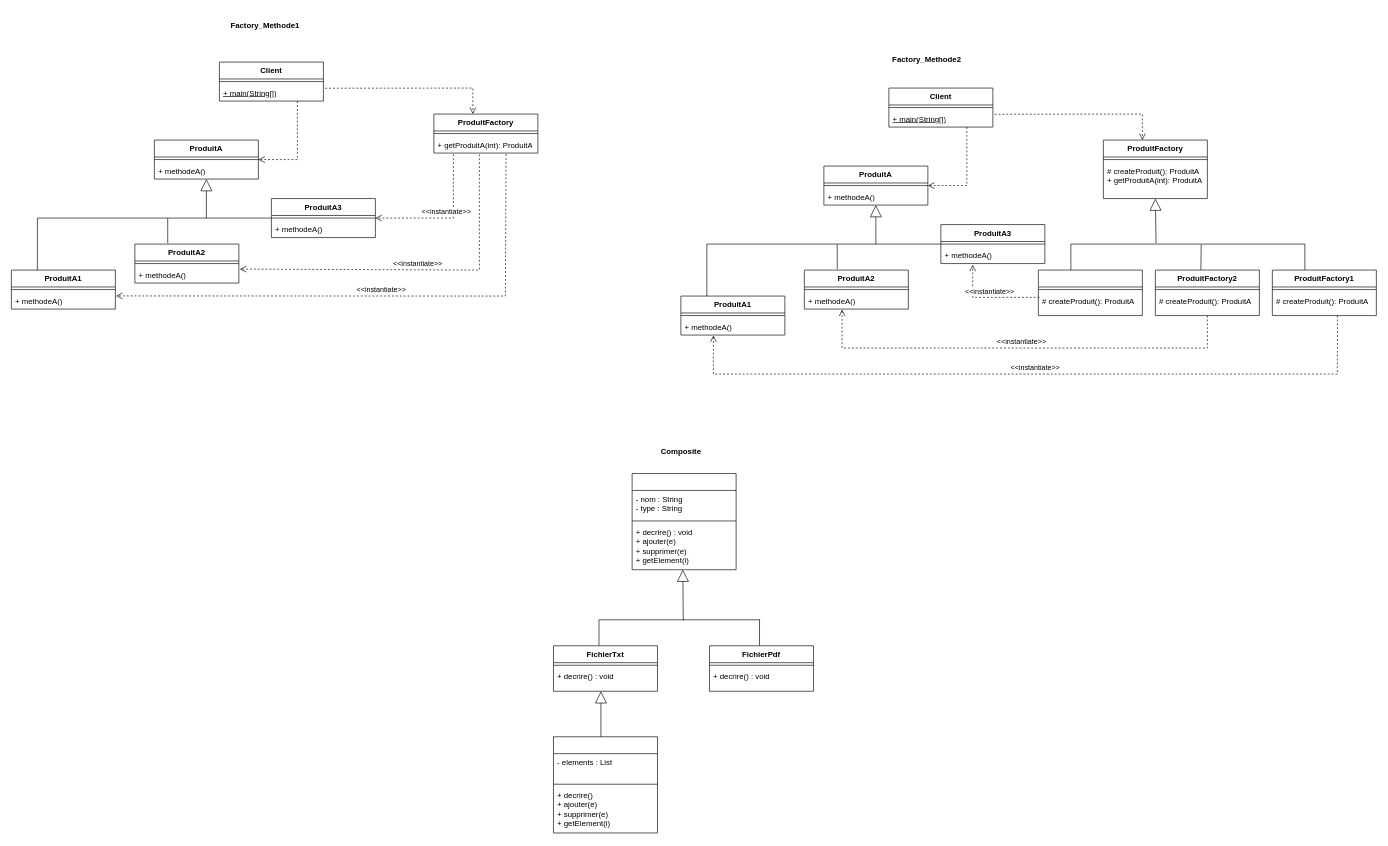
The diagram is 1388 pixels wide and 846 high, and some of its shapes have lost their labels. Each missing label, with the box of its shape:
Dossier: (553, 736, 657, 833)
ElementSystemeFichier: (631, 473, 736, 570)
ProduitFactory3: (1038, 269, 1142, 316)
